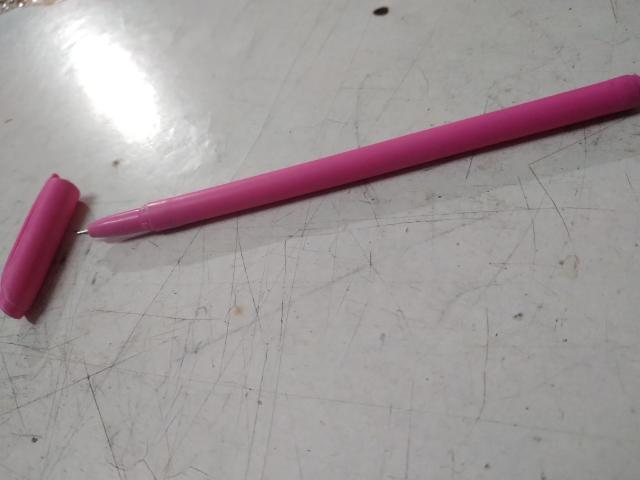PEN: (0, 65, 640, 319)
